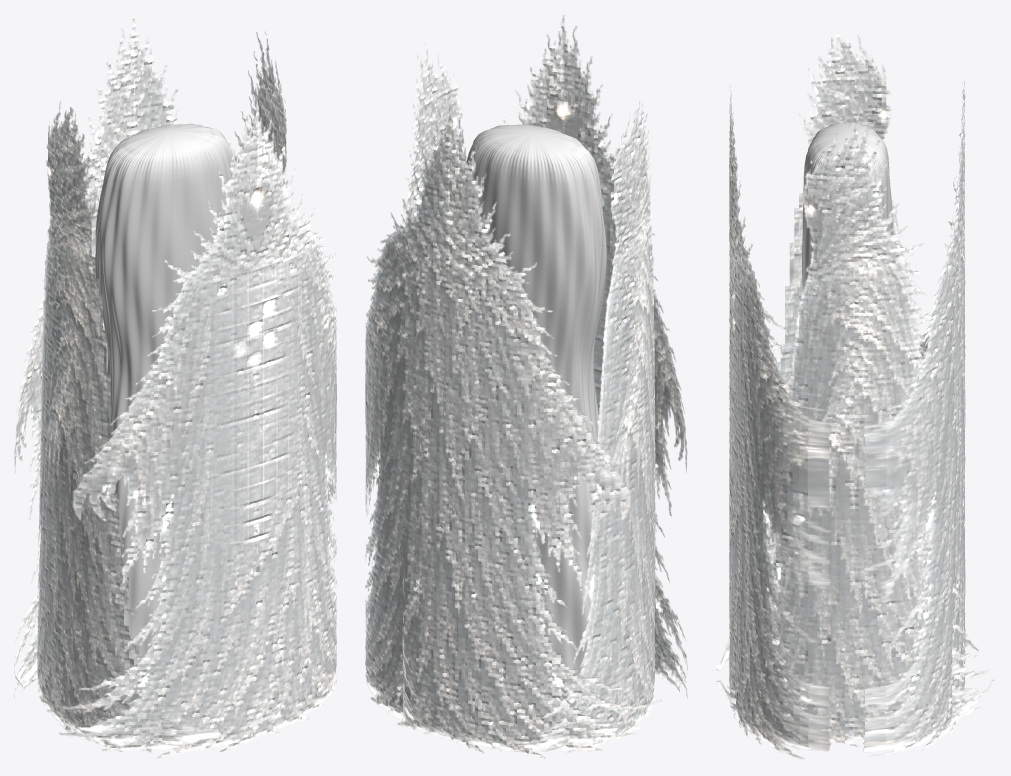
Rendered from observer_will_hq.glb.
3 views of the same model, side by side, from view 1: azimuth 30°, elevation 25°; view 2: azimuth 150°, elevation 25°; view 3: azimuth 270°, elevation 25° (orthographic). The views are drawn at different scales.
Parts seen in each view (by area): view 1: ObserverWillHQ_Export_ObserverWillHQ_FrontSurface, ObserverWillHQ_Export_ObserverWillHQ_SideSurface, ObserverWillHQ_Export_ObserverWillHQ_Cloth, ObserverWillHQ_Export_ObserverWillHQ_BackSurface; view 2: ObserverWillHQ_Export_ObserverWillHQ_BackSurface, ObserverWillHQ_Export_ObserverWillHQ_SideSurface, ObserverWillHQ_Export_ObserverWillHQ_Cloth, ObserverWillHQ_Export_ObserverWillHQ_FrontSurface; view 3: ObserverWillHQ_Export_ObserverWillHQ_SideSurface, ObserverWillHQ_Export_ObserverWillHQ_FrontSurface, ObserverWillHQ_Export_ObserverWillHQ_BackSurface, ObserverWillHQ_Export_ObserverWillHQ_Cloth.
Boxes of the visible parts, <box> form: ObserverWillHQ_Export_ObserverWillHQ_FrontSurface: <box>40,101,336,758</box>; ObserverWillHQ_Export_ObserverWillHQ_SideSurface: <box>37,32,286,752</box>; ObserverWillHQ_Export_ObserverWillHQ_Cloth: <box>95,124,234,665</box>; ObserverWillHQ_Export_ObserverWillHQ_BackSurface: <box>14,15,191,697</box>; ObserverWillHQ_Export_ObserverWillHQ_BackSurface: <box>365,103,661,758</box>; ObserverWillHQ_Export_ObserverWillHQ_SideSurface: <box>402,40,655,753</box>; ObserverWillHQ_Export_ObserverWillHQ_Cloth: <box>466,124,606,707</box>; ObserverWillHQ_Export_ObserverWillHQ_FrontSurface: <box>503,15,687,698</box>; ObserverWillHQ_Export_ObserverWillHQ_SideSurface: <box>716,34,993,747</box>; ObserverWillHQ_Export_ObserverWillHQ_FrontSurface: <box>729,85,831,759</box>; ObserverWillHQ_Export_ObserverWillHQ_BackSurface: <box>863,81,965,756</box>; ObserverWillHQ_Export_ObserverWillHQ_Cloth: <box>802,121,893,291</box>.
Size of the model in its own units: 1.43 by 3.08 by 1.21.
Materials: 4 (3 with a texture image).
